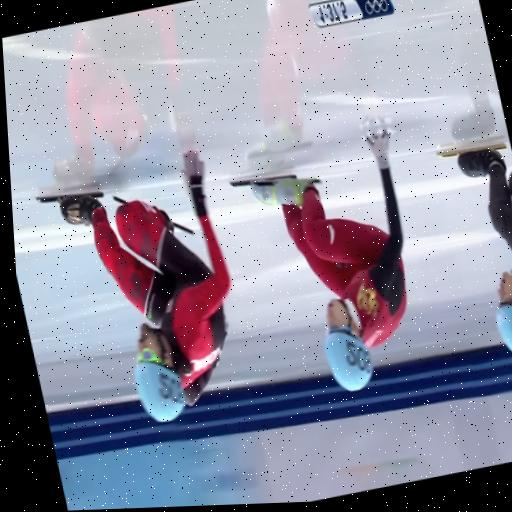Skater: (59, 150, 230, 421), (249, 127, 407, 390), (457, 147, 511, 248)
